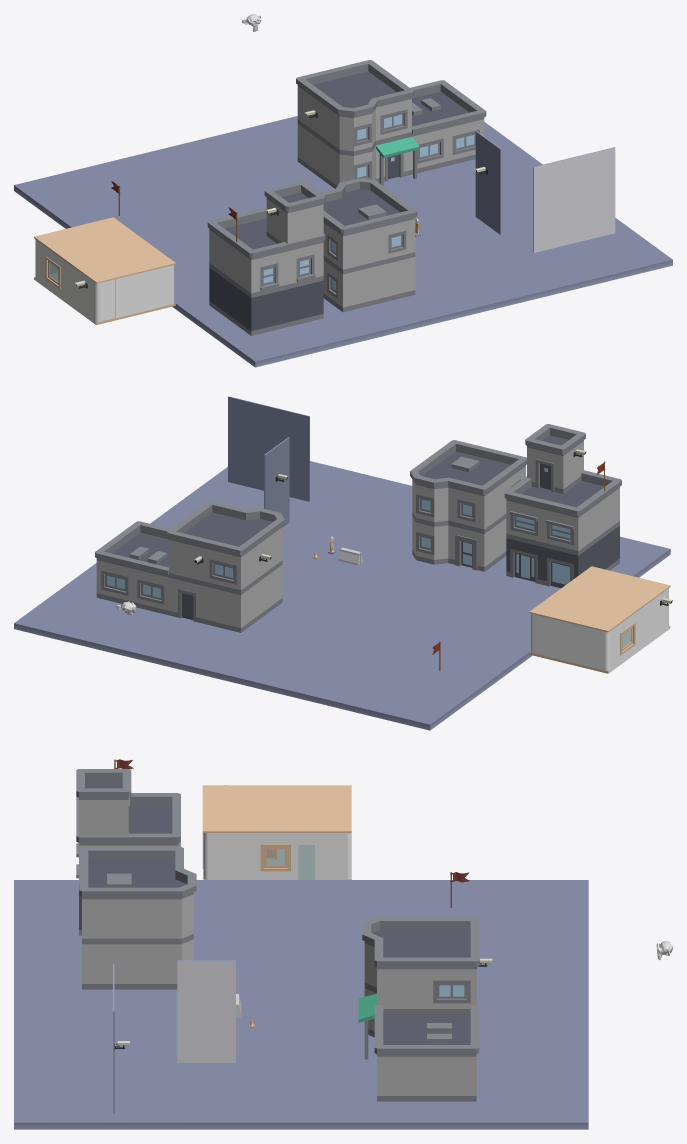
The model's file is notbad222.glb.
3 renders of one model, top to bottom at view 1: azimuth 30°, elevation 25°; view 2: azimuth 150°, elevation 25°; view 3: azimuth 270°, elevation 25°, orthographic. The views are drawn at different scales.
Parts seen in each view (by area): view 1: floor, small_buildingE, small_buildingF, small_buildingB, floor.001, floorFull(Clone), floor.002, wallCornerRond(Clone), wall(Clone).001, wallWindow(Clone).001, wallCornerRond(Clone).005; view 2: floor, small_buildingE, small_buildingF, small_buildingB, floor.001, floorFull(Clone), wallCornerRond(Clone).002, floor.002, wallWindow(Clone).001, wallCornerRond(Clone), wallCornerRond(Clone).007, Floor.002; view 3: floor, small_buildingE, small_buildingB, small_buildingF, floorFull(Clone), floor.002, wallWindow(Clone), wallCornerRond(Clone).005, wallCornerRond(Clone).007, Floor.002, window.
Boxes of the visible parts, x1,y1,x2,y2 form: floor: [14, 116, 672, 367]; small_buildingE: [296, 60, 486, 188]; small_buildingF: [207, 181, 325, 335]; small_buildingB: [320, 178, 417, 312]; floor.001: [533, 147, 615, 252]; floorFull(Clone): [34, 217, 175, 283]; floor.002: [475, 131, 501, 234]; wallCornerRond(Clone): [71, 266, 115, 322]; wall(Clone).001: [115, 269, 156, 318]; wallWindow(Clone).001: [44, 245, 71, 304]; wallCornerRond(Clone).005: [157, 265, 174, 307]; floor: [14, 461, 670, 730]; small_buildingE: [95, 501, 284, 632]; small_buildingF: [504, 424, 621, 588]; small_buildingB: [410, 440, 526, 571]; floor.001: [228, 396, 309, 501]; floorFull(Clone): [529, 566, 670, 632]; wallCornerRond(Clone).002: [548, 618, 618, 670]; floor.002: [264, 437, 289, 527]; wallWindow(Clone).001: [618, 605, 645, 663]; wallCornerRond(Clone): [645, 588, 668, 643]; wallCornerRond(Clone).007: [530, 613, 548, 656]; Floor.002: [529, 626, 670, 673]; floor: [14, 880, 588, 1129]; small_buildingE: [358, 917, 479, 1101]; small_buildingB: [79, 847, 196, 989]; small_buildingF: [76, 769, 180, 935]; floorFull(Clone): [202, 785, 351, 832]; floor.002: [177, 960, 235, 1062]; wallWindow(Clone): [244, 833, 298, 879]; wallCornerRond(Clone).005: [203, 833, 244, 879]; wallCornerRond(Clone).007: [315, 833, 351, 879]; Floor.002: [203, 845, 351, 879]; window: [263, 847, 287, 868].
Size of the model in its own units: 73.02 by 17.45 by 68.8.
Materials: 57 (3 with a texture image).
